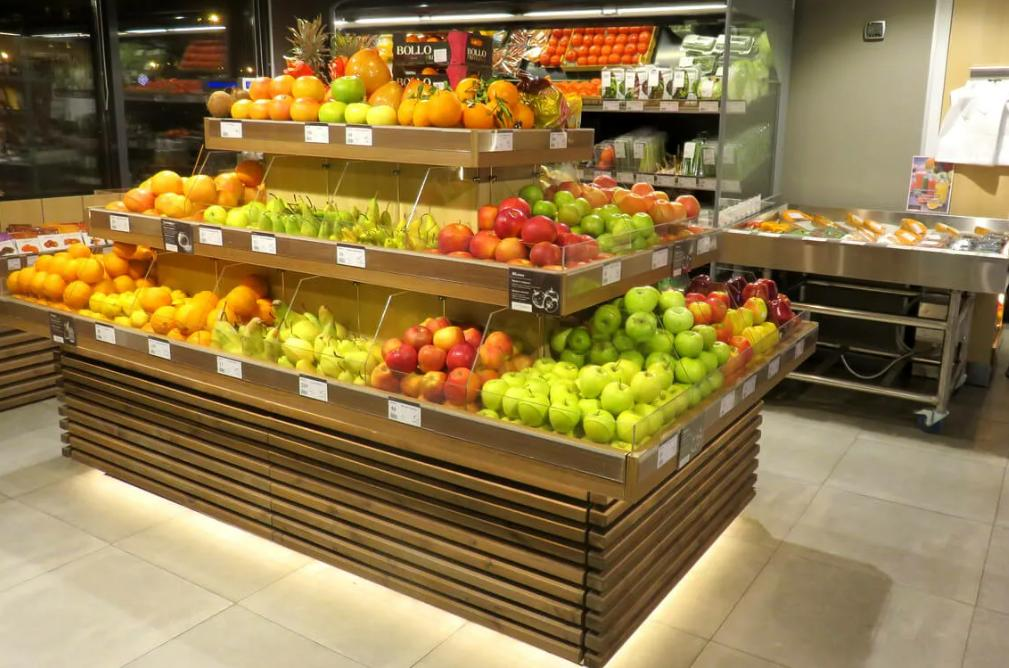green apple: (490, 349, 692, 455), (548, 284, 731, 399), (518, 182, 661, 258), (310, 72, 408, 147), (194, 196, 271, 244)
lemon: (78, 280, 192, 330)
mandarin: (552, 72, 604, 104)
orange: (140, 268, 278, 358), (3, 239, 146, 314), (103, 158, 270, 221), (404, 76, 543, 138), (227, 74, 331, 126)
pear: (213, 296, 399, 388), (263, 191, 449, 255)
pineapple: (288, 17, 329, 74)
red apple: (371, 315, 528, 415), (694, 258, 798, 379), (442, 202, 600, 277), (570, 174, 703, 219)
